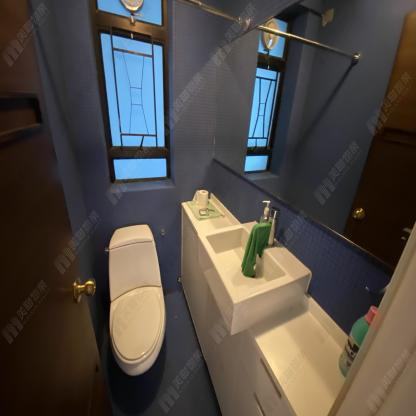Toilet: (108, 223, 166, 373)
Toilet Sink: (197, 221, 312, 336)
